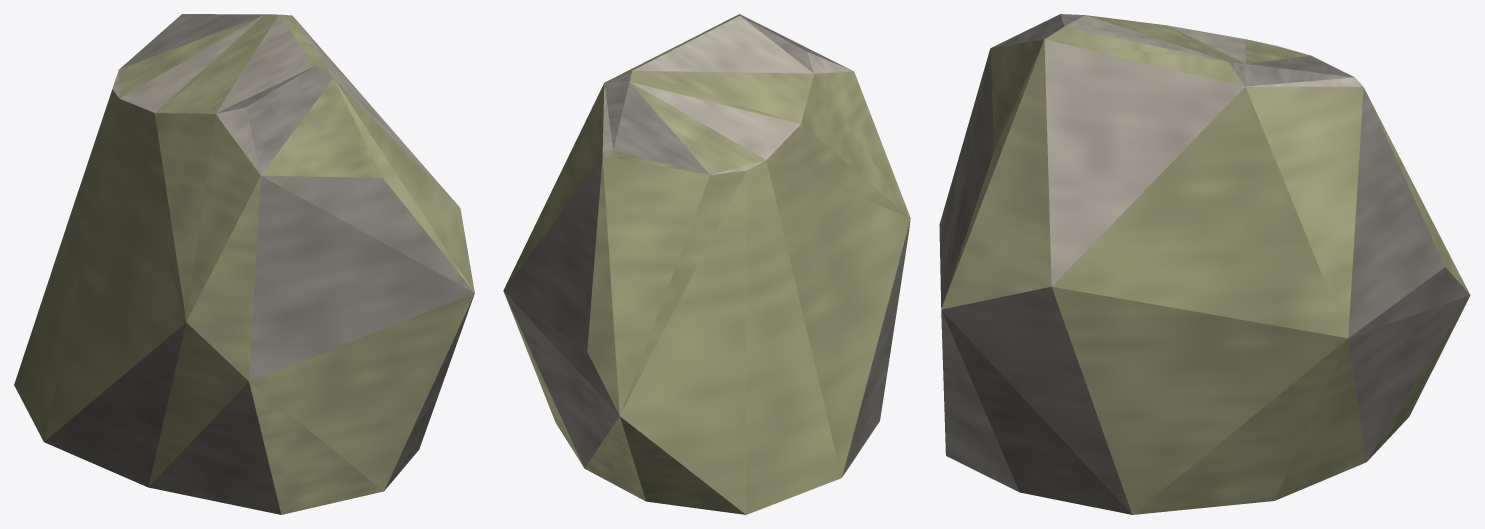
Rendered from rock_small_06.fbx.
3 views of the same model, side by side, from view 1: azimuth 30°, elevation 25°; view 2: azimuth 150°, elevation 25°; view 3: azimuth 270°, elevation 25° (orthographic). The views are drawn at different scales.
Visible parts, largest first — view 1: rock_small_06; view 2: rock_small_06; view 3: rock_small_06.
Part boxes in pixels (left/top/right/bottom): rock_small_06: left=14, top=14, right=474, bottom=514; rock_small_06: left=503, top=14, right=910, bottom=514; rock_small_06: left=939, top=14, right=1470, bottom=514.
Size of the model in its own units: 0.4506 by 0.5076 by 0.5795.
